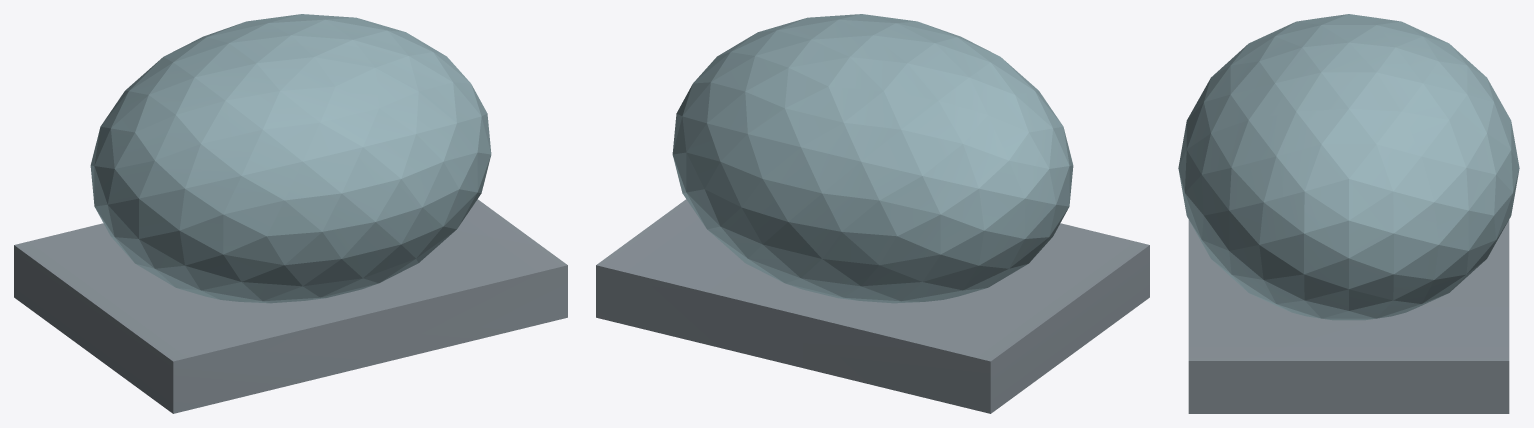
Rendered from greenhouse-06.glb.
3 views of the same model, side by side, from view 1: azimuth 30°, elevation 25°; view 2: azimuth 150°, elevation 25°; view 3: azimuth 270°, elevation 25° (orthographic).
Visible parts, largest first — view 1: world; view 2: world; view 3: world.
Part boxes in pixels (x1,y1,x2,y2): world: (14, 14, 567, 413); world: (596, 14, 1149, 413); world: (1178, 14, 1519, 413).
Bounding box in the file's own units: 1.58 × 1.04 × 1.17.
